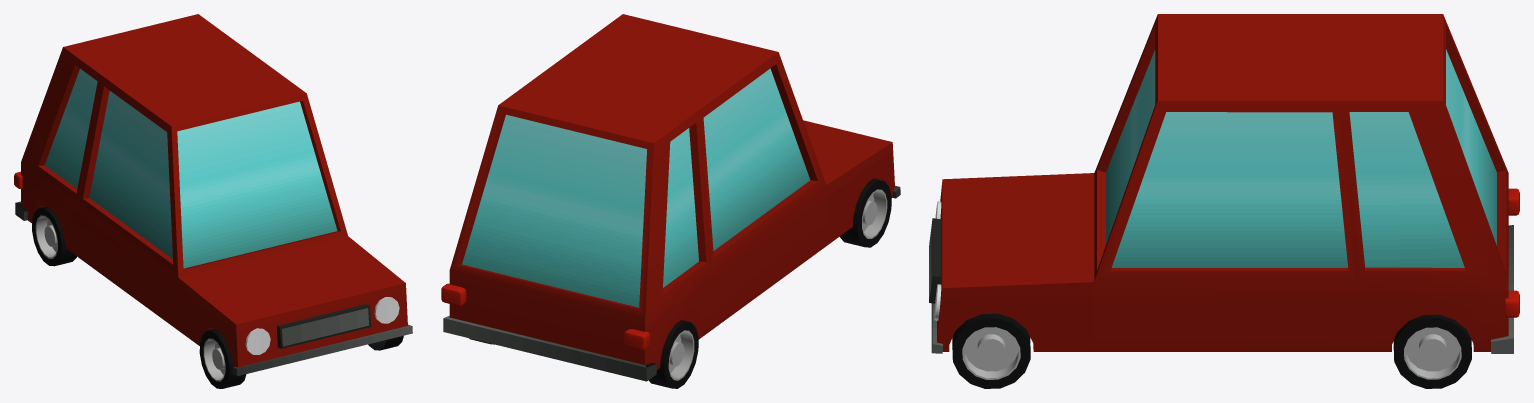
Rendered from SM_Car_Red.fbx.
The picture shows the model from 3 angles, left to right: view 1: azimuth 30°, elevation 25°; view 2: azimuth 150°, elevation 25°; view 3: azimuth 270°, elevation 25°; orthographic projection. The views are drawn at different scales.
Visible parts, largest first — view 1: Car, Wheels, Grate, Headlights; view 2: Car, Wheels, Break_Lights; view 3: Car, Wheels, Grate, Break_Lights.
Boxes of the visible parts, box(x1,y1,x2,y2) form: Car: box(15, 14, 412, 376); Wheels: box(32, 206, 403, 388); Grate: box(277, 304, 371, 348); Headlights: box(245, 297, 399, 354); Car: box(443, 14, 900, 381); Wheels: box(469, 178, 891, 388); Break_Lights: box(441, 283, 649, 350); Car: box(931, 14, 1513, 353); Wheels: box(952, 313, 1471, 388); Grate: box(929, 218, 940, 303); Break_Lights: box(1504, 188, 1519, 317).
Bounding box in the file's own units: 253 × 284 × 553.
1 material, 1 textured.
